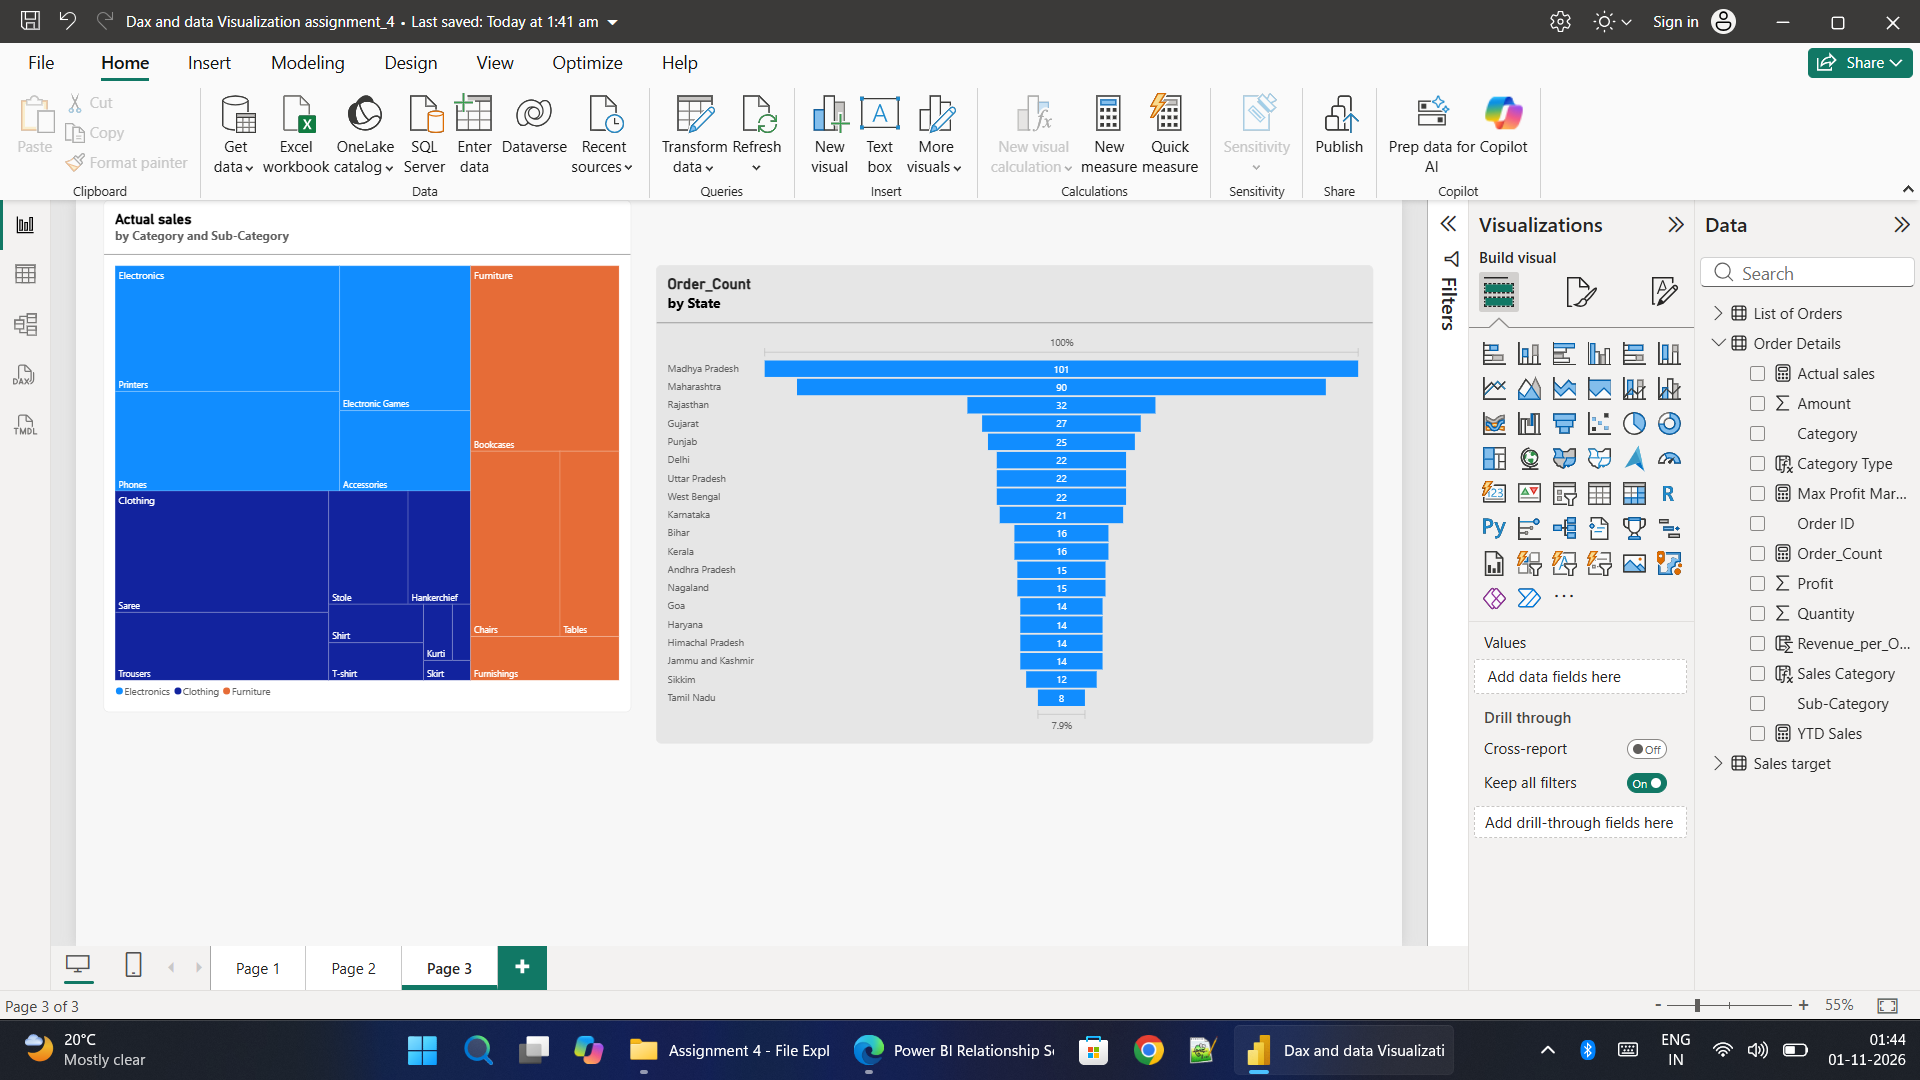

What the dashboard file says about the page in this screenshot:
{"tool":"powerbi","page":{"name":"Page 3","canvas":[1920,1080],"ordinal":2},"visuals":[{"type":"treemap","fields":{"Details":["Order Details.Sub-Category"],"Group":["Sales target.Category"],"Values":["Order Details.Actual sales"]},"box":[39.8,0,763.7,742],"z":0},{"type":"funnel","fields":{"Category":["List of Orders.State"],"Y":["Order Details.Order_Count"]},"box":[839.7,94.1,1038.7,693.1],"z":1000}]}

Visuals, with their boxes on the page's 1920x1080 design canvas (x1, y1, x2, y2). These are canvas units, not pixel positions in the 1920x1080 screenshot, which may show the page scaled, cropped or inside an application window:
treemap - Order Details.Sub-Category x Sales target.Category: l=40, t=0, r=804, b=742
funnel - List of Orders.State x Order Details.Order_Count: l=840, t=94, r=1878, b=787
